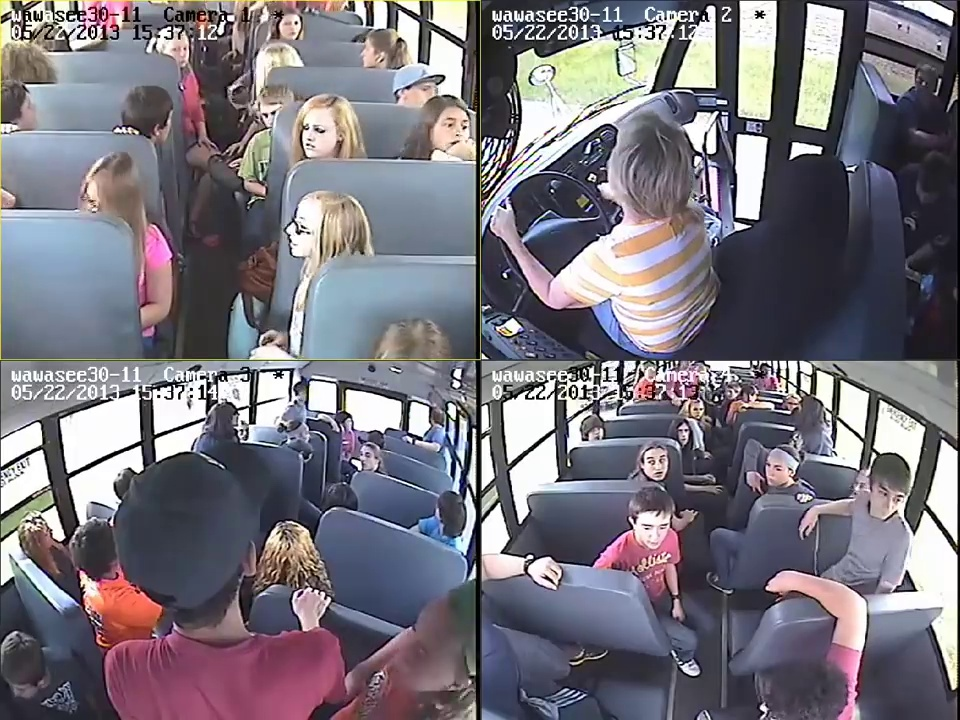face: (295, 110, 335, 161), (286, 206, 317, 257), (436, 110, 469, 151), (638, 512, 672, 549), (877, 476, 905, 513), (643, 449, 666, 478), (165, 42, 188, 67), (359, 446, 379, 469), (674, 422, 690, 449), (766, 463, 785, 485), (687, 400, 708, 418), (283, 16, 299, 39), (583, 424, 605, 437)
